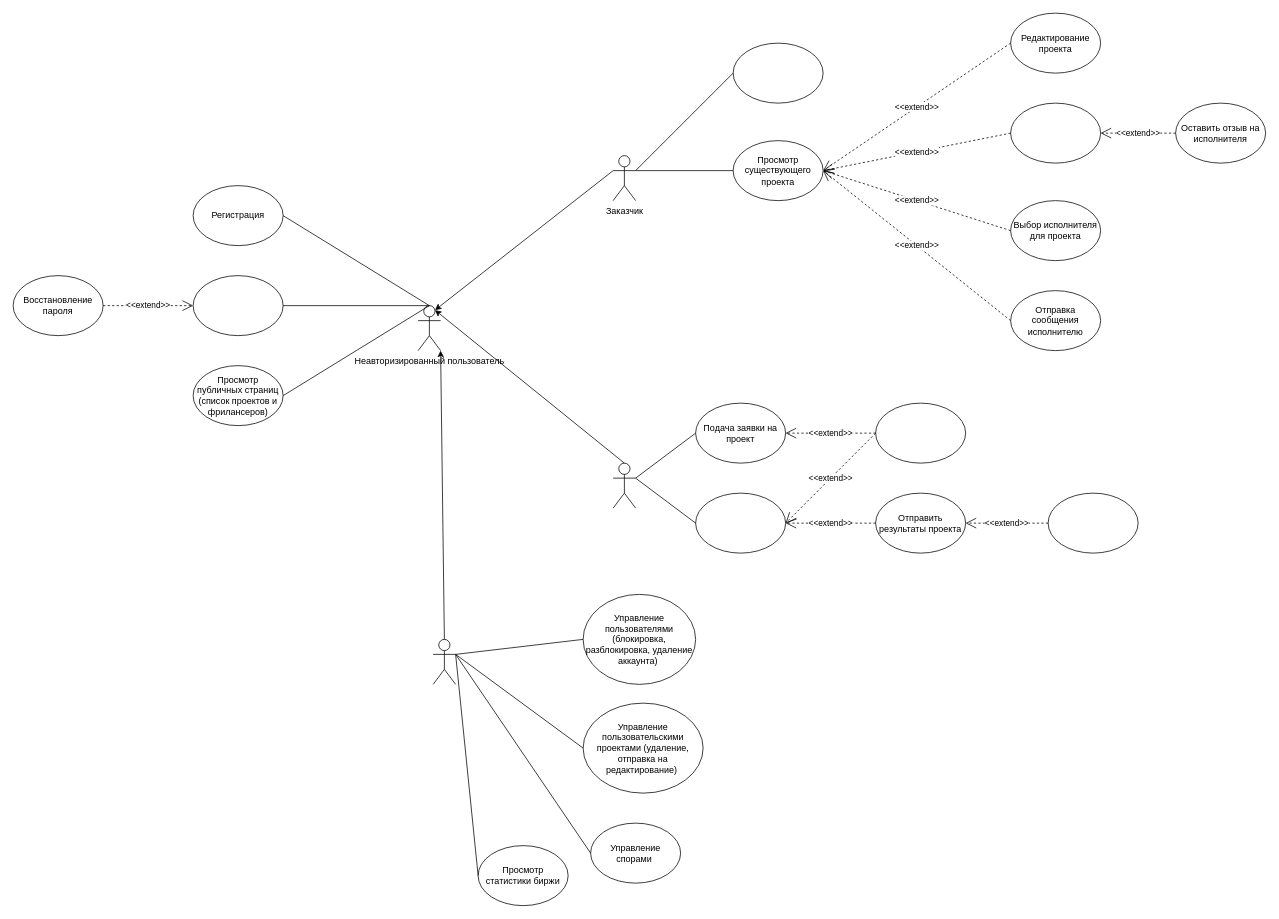
The diagram is 1279 pixels wide and 919 high, and some of its shapes have lost their labels. The shapes that lost their labels are listed below. From the top down, each one's centre as x and y in pixels, then its label:
At (777,72): "Создание нового проекта".
At (1055,132): "Завершение проекта".
At (237,305): "Авторизация".
At (920,432): "Открыть чат с заказчиком".
At (624,485): "Фрилансер".
At (740,522): "Открыть рабочий проект".
At (1092,522): "Оставить отзыв на заказчика".
At (444,661): "Администратор".
